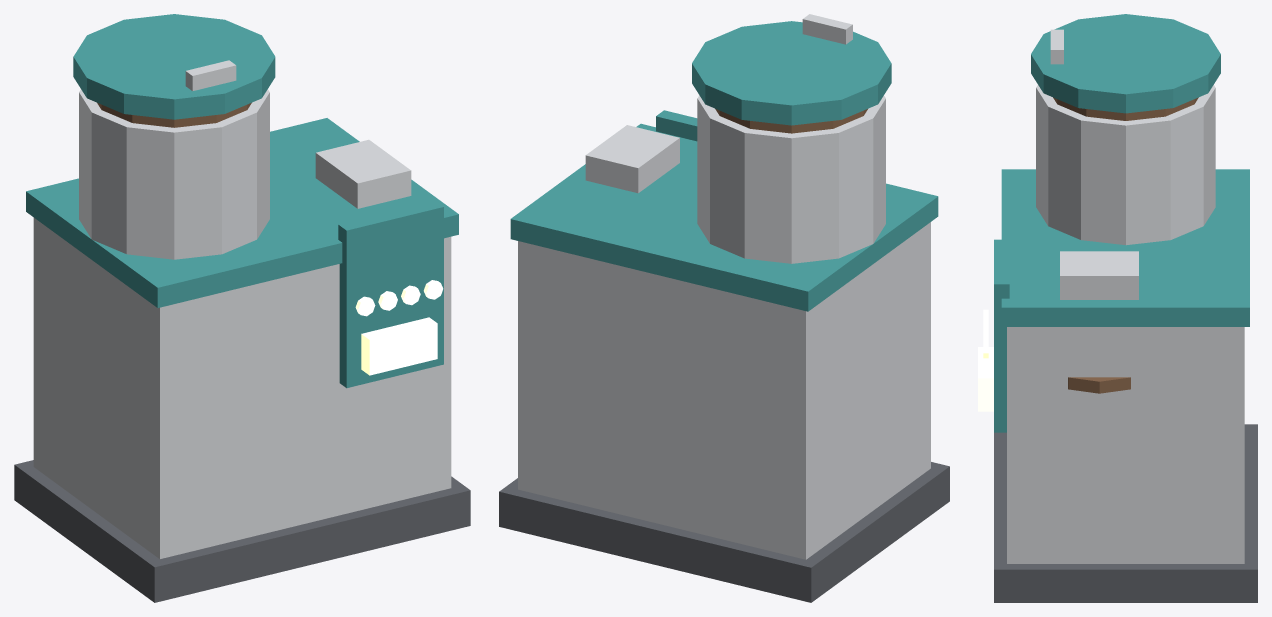
Rendered from chocolate-and-confectionery-factory-tempering-machine-47c219dd__36761.glb.
The picture shows the model from 3 angles, left to right: view 1: azimuth 30°, elevation 25°; view 2: azimuth 150°, elevation 25°; view 3: azimuth 270°, elevation 25°; orthographic projection. The views are drawn at different scales.
Parts seen in each view (by area): view 1: tempering-machine, lid-temper/teal, lid-temper/steel; view 2: tempering-machine, lid-temper/teal, lid-temper/steel; view 3: tempering-machine, lid-temper/teal, lid-temper/steel.
Boxes of the visible parts, x1,y1,x2,y2 form: tempering-machine: (14,89,470,602); lid-temper/teal: (73,14,275,119); lid-temper/steel: (185,60,236,91); tempering-machine: (499,95,949,602); lid-temper/teal: (692,21,891,125); lid-temper/steel: (802,14,852,44); tempering-machine: (978,85,1257,602); lid-temper/teal: (1031,14,1220,113); lid-temper/steel: (1050,29,1063,64).
Size of the model in its own units: 1.3 by 1.92 by 1.06.
